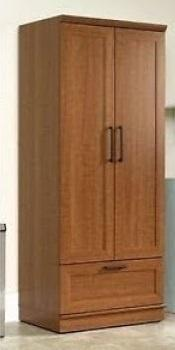Armario: (18, 14, 165, 326)
